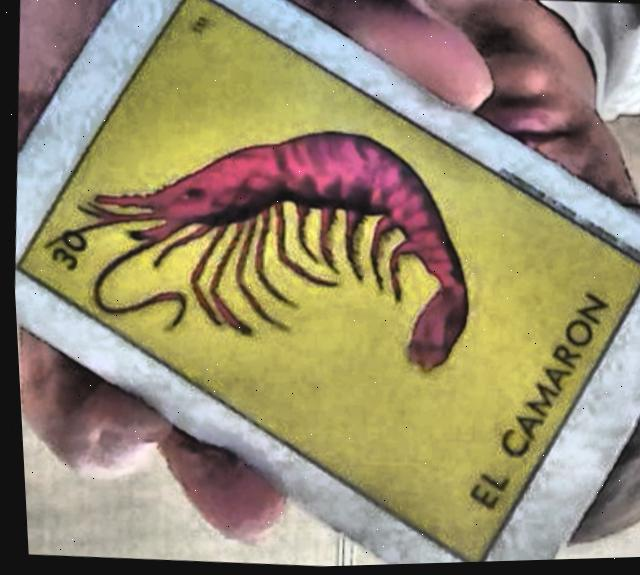El Camaron: (13, 0, 640, 565)
